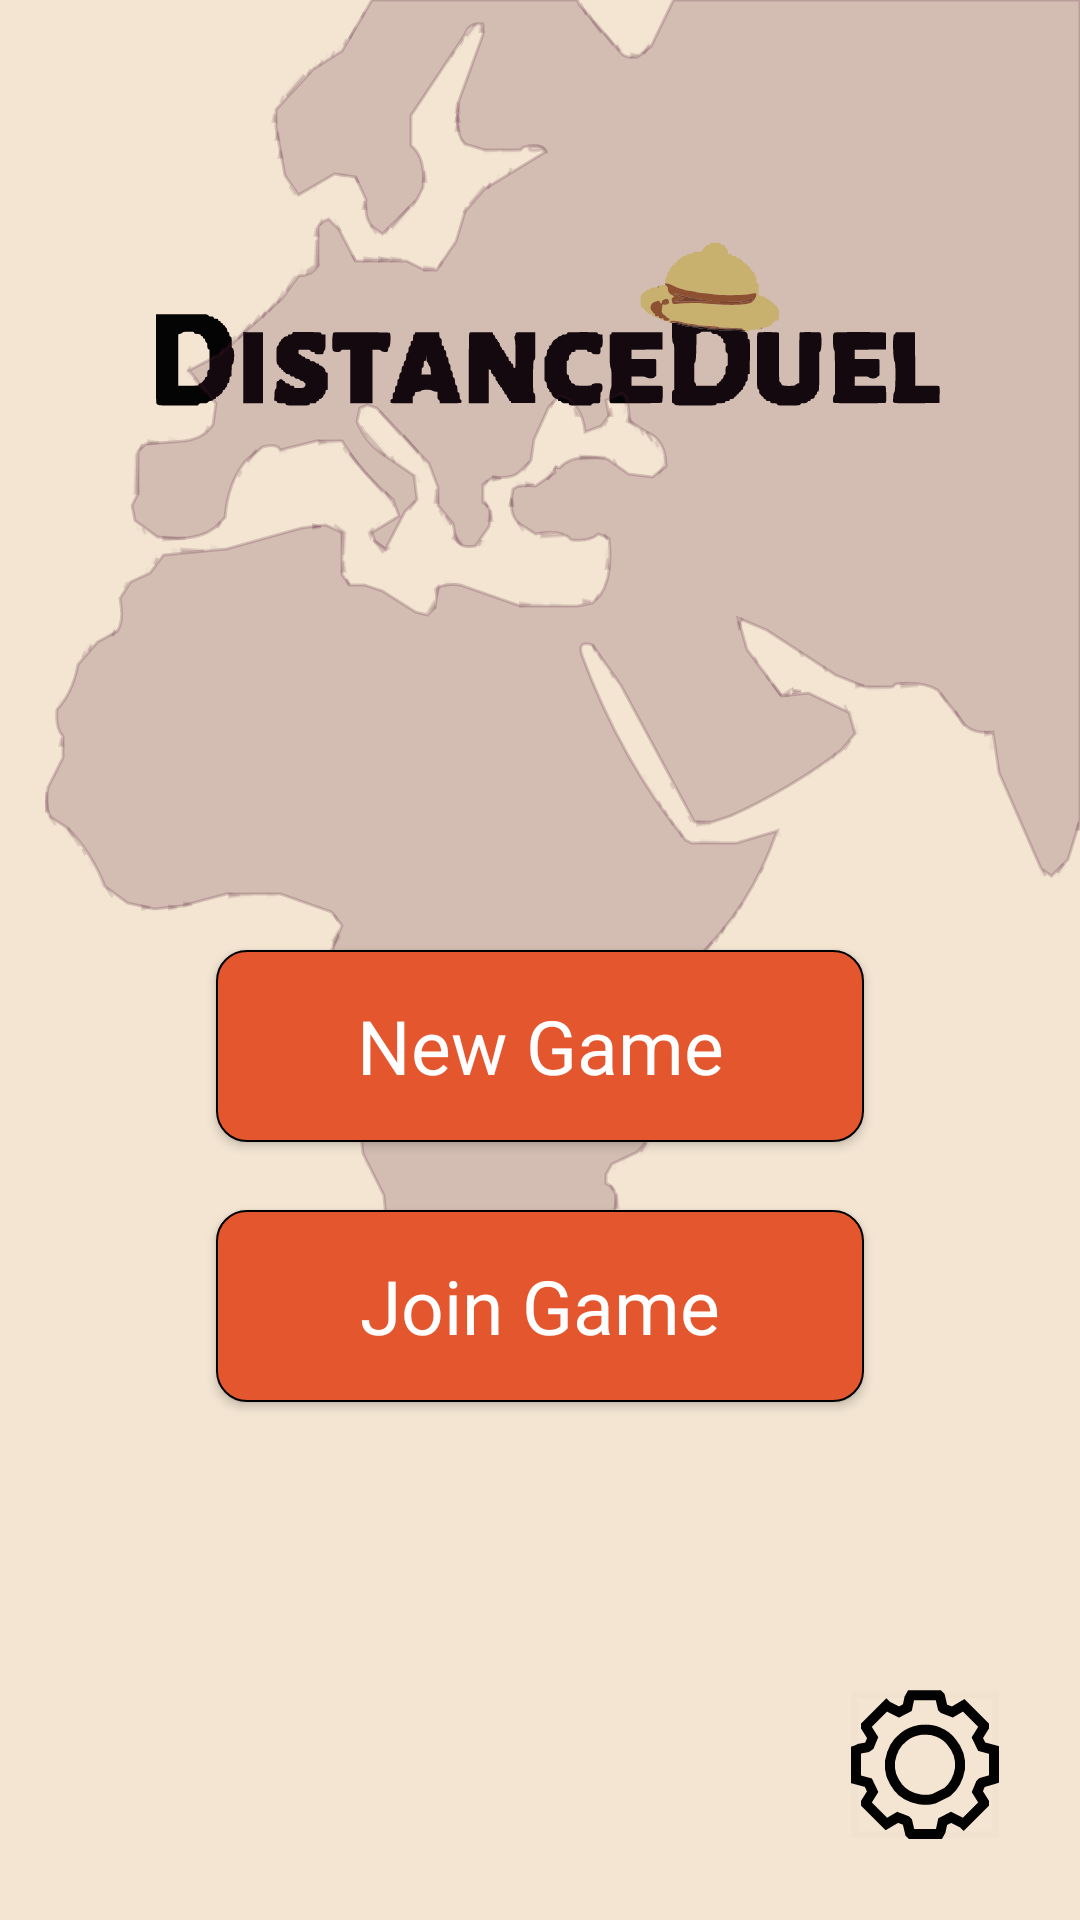

Named icons in this screenshot (1080×1920) and their bounding boxes, box(x1, y1, x2, y2):
settings: box(851, 1690, 999, 1839)
